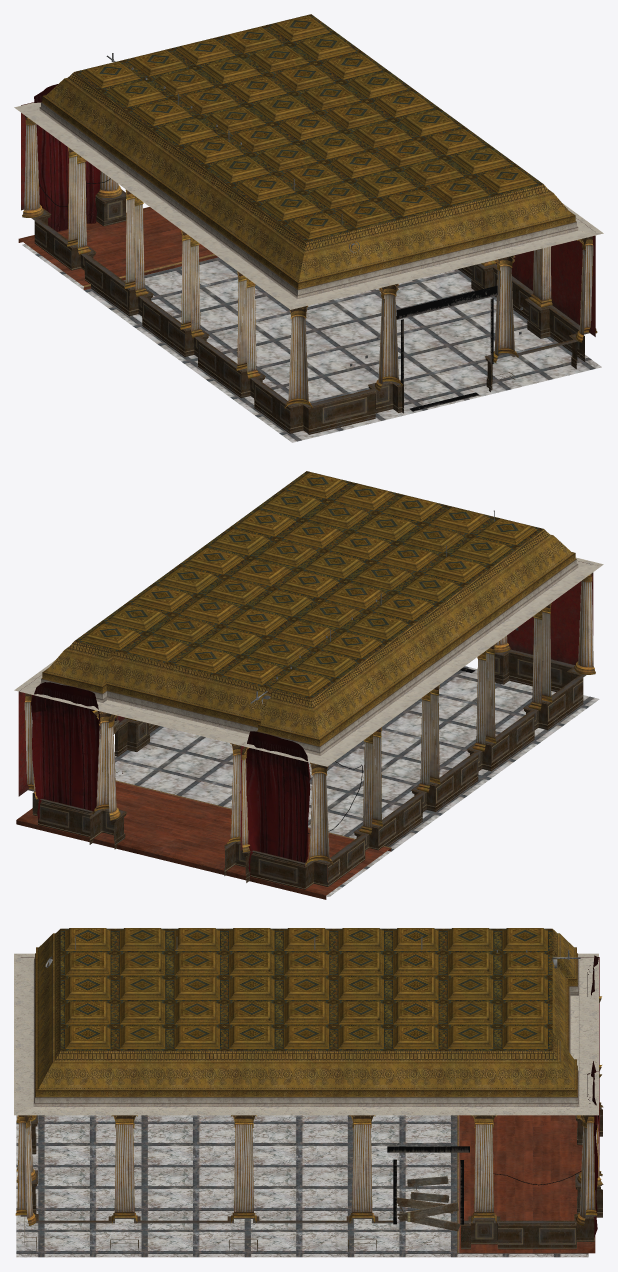
File: st4_306_0_terrain_00ms.fbx
3 views of the same model, one above another, from view 1: azimuth 30°, elevation 25°; view 2: azimuth 150°, elevation 25°; view 3: azimuth 270°, elevation 25° (orthographic). The views are drawn at different scales.
Parts seen in each view (by area): view 1: LOD_1_Group_0_Sub_3__st2_police1fRightCeiling13, LOD_1_Group_0_Sub_8__st2_police1fRightProps12, LOD_1_Group_0_Sub_1__st2_police1fRightFloor13, LOD_1_Group_0_Sub_5__st2_police1fRightPillar11, LOD_1_Group_0_Sub_6__st2_police1fRightWindow11, LOD_1_Group_0_Sub_2__st2_police1fRightFloor15, LOD_1_Group_0_Sub_4__st2_police1fRightWall11, LOD_1_Group_0_Sub_7__st2_police1fRightDirt02; view 2: LOD_1_Group_0_Sub_3__st2_police1fRightCeiling13, LOD_1_Group_0_Sub_8__st2_police1fRightProps12, LOD_1_Group_0_Sub_1__st2_police1fRightFloor13, LOD_1_Group_0_Sub_6__st2_police1fRightWindow11, LOD_1_Group_0_Sub_5__st2_police1fRightPillar11, LOD_1_Group_0_Sub_2__st2_police1fRightFloor15, LOD_1_Group_0_Sub_4__st2_police1fRightWall11; view 3: LOD_1_Group_0_Sub_3__st2_police1fRightCeiling13, LOD_1_Group_0_Sub_1__st2_police1fRightFloor13, LOD_1_Group_0_Sub_8__st2_police1fRightProps12, LOD_1_Group_0_Sub_5__st2_police1fRightPillar11, LOD_1_Group_0_Sub_2__st2_police1fRightFloor15, LOD_1_Group_0_Sub_6__st2_police1fRightWindow11, LOD_1_Group_0_Sub_10__st1_WoodBarricade_A1, LOD_1_Group_0_Sub_7__st2_police1fRightDirt02.
Boxes of the visible parts, box(x1,y1,x2,y2) form: LOD_1_Group_0_Sub_3__st2_police1fRightCeiling13: box(74, 14, 543, 241); LOD_1_Group_0_Sub_8__st2_police1fRightProps12: box(14, 14, 603, 309); LOD_1_Group_0_Sub_1__st2_police1fRightFloor13: box(22, 244, 601, 442); LOD_1_Group_0_Sub_5__st2_police1fRightPillar11: box(22, 116, 597, 408); LOD_1_Group_0_Sub_6__st2_police1fRightWindow11: box(31, 190, 589, 434); LOD_1_Group_0_Sub_2__st2_police1fRightFloor15: box(18, 207, 218, 289); LOD_1_Group_0_Sub_4__st2_police1fRightWall11: box(21, 102, 595, 336); LOD_1_Group_0_Sub_7__st2_police1fRightDirt02: box(396, 285, 497, 411); LOD_1_Group_0_Sub_3__st2_police1fRightCeiling13: box(74, 471, 543, 698); LOD_1_Group_0_Sub_8__st2_police1fRightProps12: box(14, 529, 603, 888); LOD_1_Group_0_Sub_1__st2_police1fRightFloor13: box(114, 666, 599, 896); LOD_1_Group_0_Sub_6__st2_police1fRightWindow11: box(28, 649, 586, 889); LOD_1_Group_0_Sub_5__st2_police1fRightPillar11: box(24, 572, 595, 865); LOD_1_Group_0_Sub_2__st2_police1fRightFloor15: box(16, 780, 391, 899); LOD_1_Group_0_Sub_4__st2_police1fRightWall11: box(18, 561, 593, 850); LOD_1_Group_0_Sub_3__st2_police1fRightCeiling13: box(60, 928, 552, 1050); LOD_1_Group_0_Sub_1__st2_police1fRightFloor13: box(16, 1115, 588, 1257); LOD_1_Group_0_Sub_8__st2_police1fRightProps12: box(14, 929, 598, 1237); LOD_1_Group_0_Sub_5__st2_police1fRightPillar11: box(15, 996, 602, 1226); LOD_1_Group_0_Sub_2__st2_police1fRightFloor15: box(457, 1115, 595, 1254); LOD_1_Group_0_Sub_6__st2_police1fRightWindow11: box(20, 1106, 603, 1252); LOD_1_Group_0_Sub_10__st1_WoodBarricade_A1: box(365, 1176, 460, 1244); LOD_1_Group_0_Sub_7__st2_police1fRightDirt02: box(387, 1146, 469, 1224).
Bounding box in the file's own units: 8.74 × 5.06 × 13.44.
